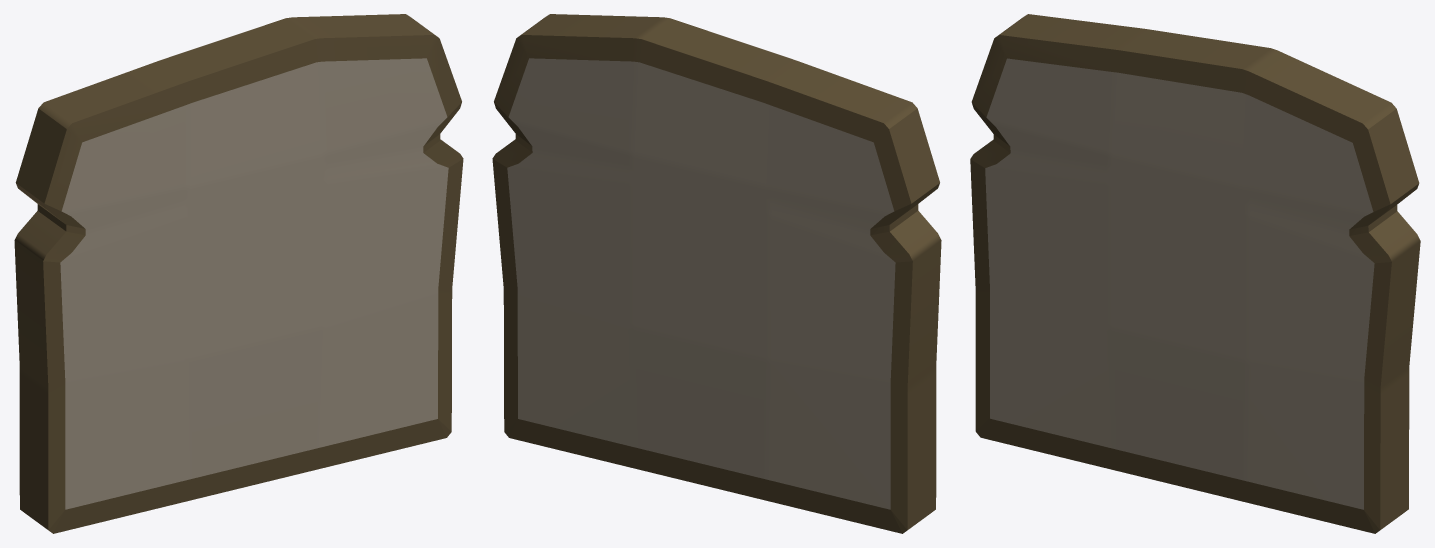
Rendered from Bread.fbx.
The picture shows the model from 3 angles, left to right: view 1: azimuth 30°, elevation 25°; view 2: azimuth 150°, elevation 25°; view 3: azimuth 330°, elevation 25°; orthographic projection.
Parts seen in each view (by area): view 1: pCube1; view 2: pCube1; view 3: pCube1.
Boxes of the visible parts, x1,y1,x2,y2 form: pCube1: (14, 14, 463, 533); pCube1: (492, 14, 941, 533); pCube1: (970, 14, 1420, 533).
Size of the model in its own units: 1.02 by 1 by 0.1427.
